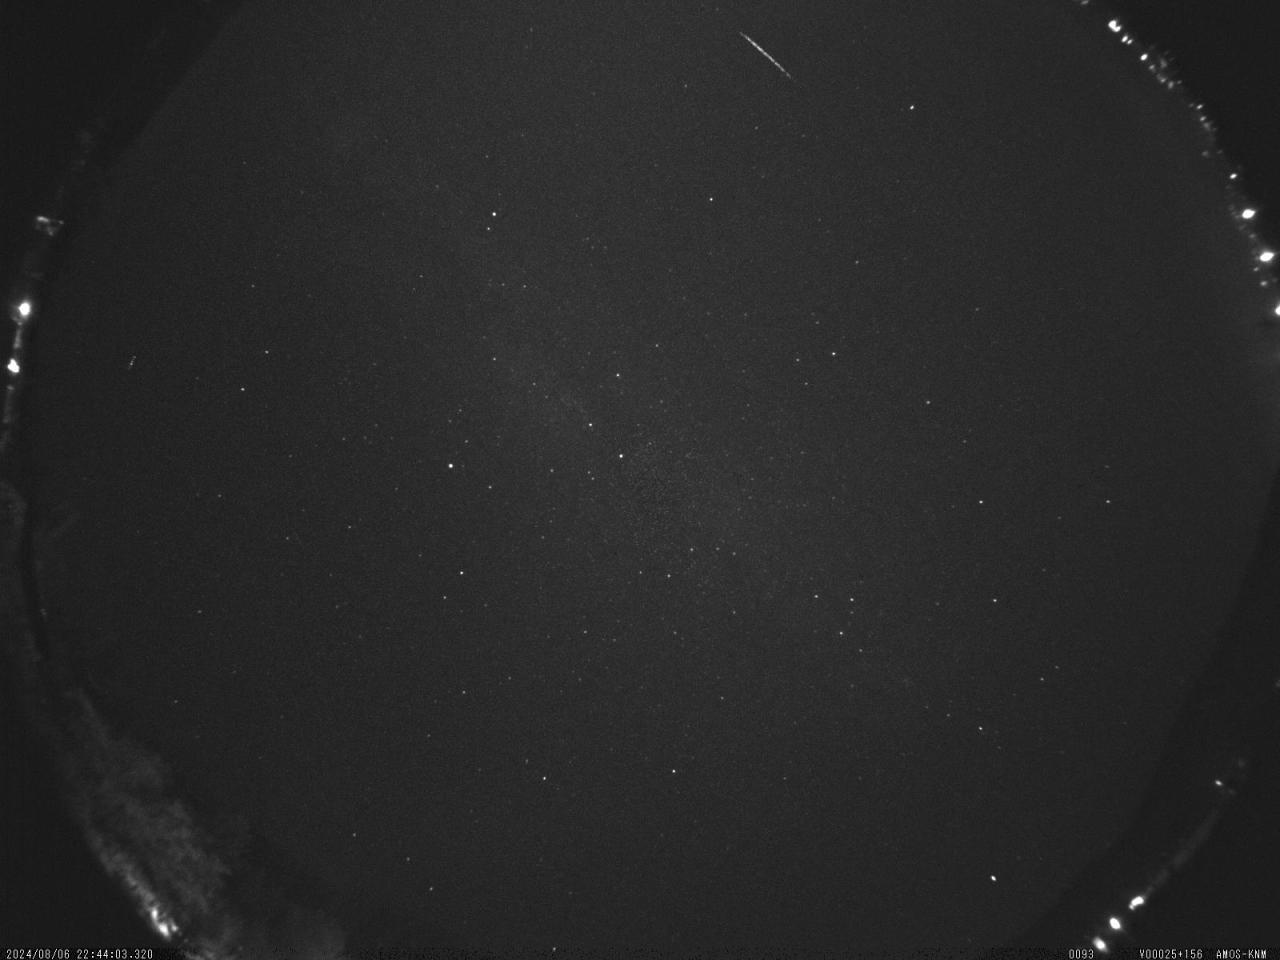Meteor: (735, 26, 798, 82)
